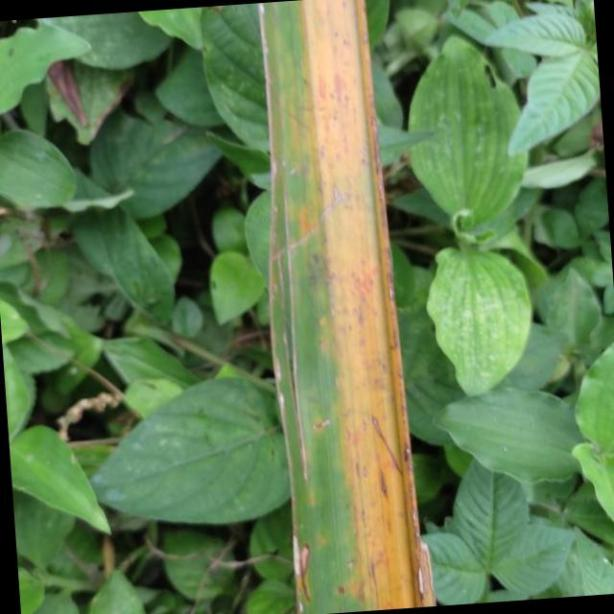Megnesium: (257, 0, 431, 612)
